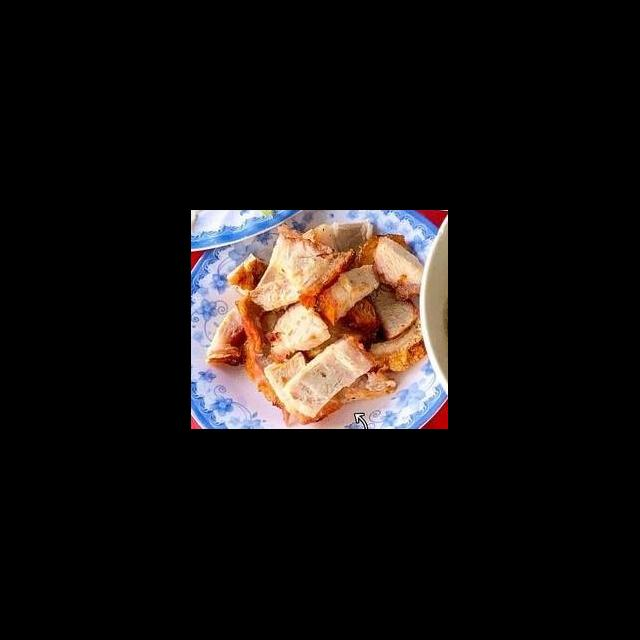thit heo quay: (280, 330, 384, 420), (314, 260, 388, 330), (358, 266, 424, 342), (370, 232, 430, 304)
